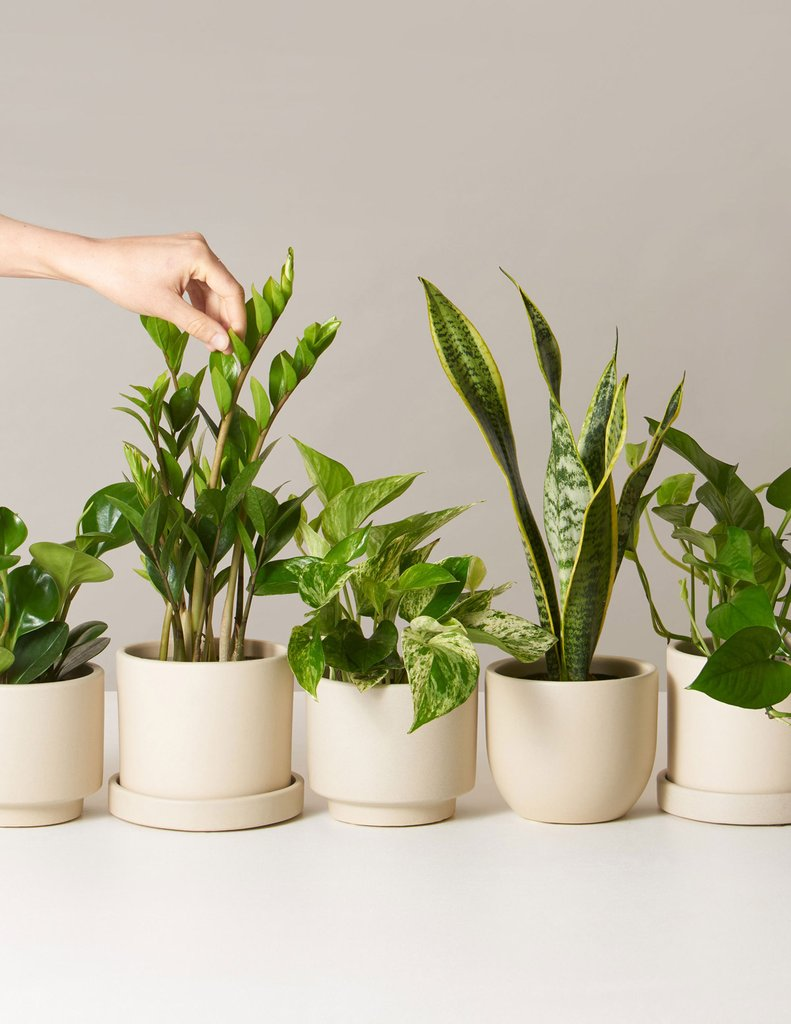plant: (99, 146, 365, 885), (434, 173, 689, 871), (265, 417, 532, 886), (652, 382, 791, 859), (1, 476, 118, 861)
